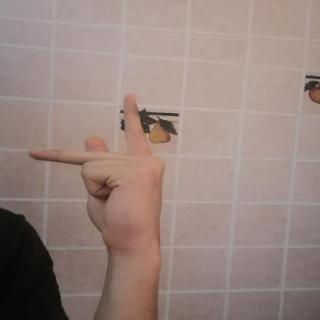DHAA: (18, 85, 178, 258)
